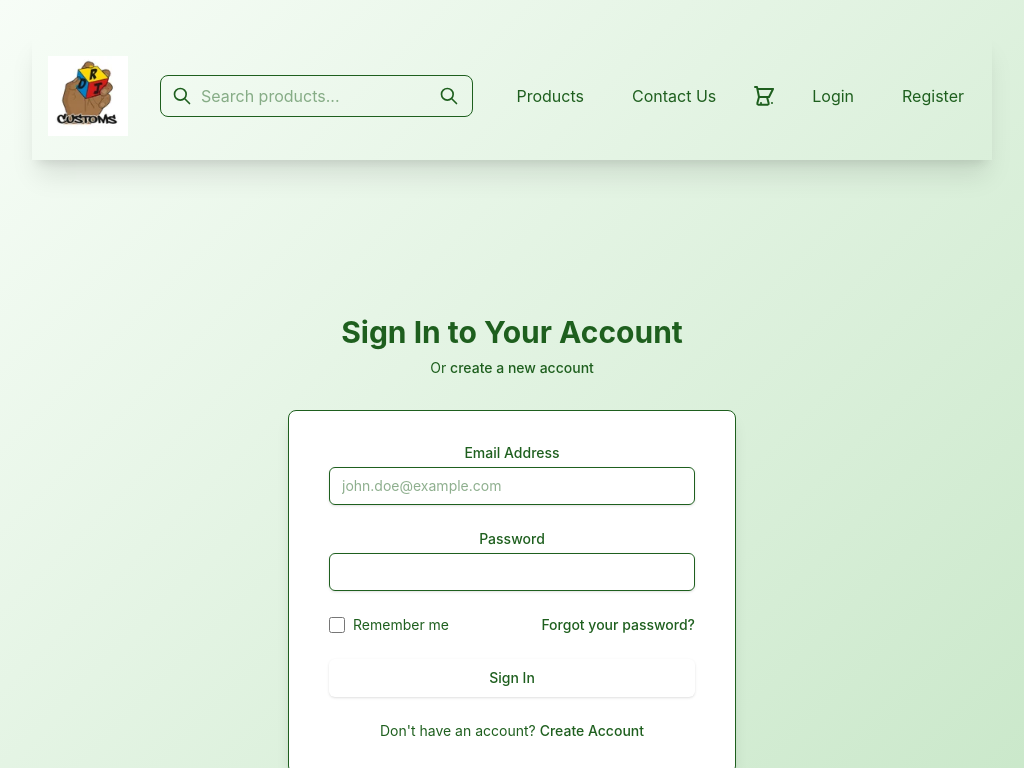
Test case: Login Flow Integration Tests › should clear field errors when user starts typing
Enter invalid email to trigger error
Type "invalid" into the field labelled "Email Address".
click(512, 486); type("invalid")  # box [329,467,695,505]
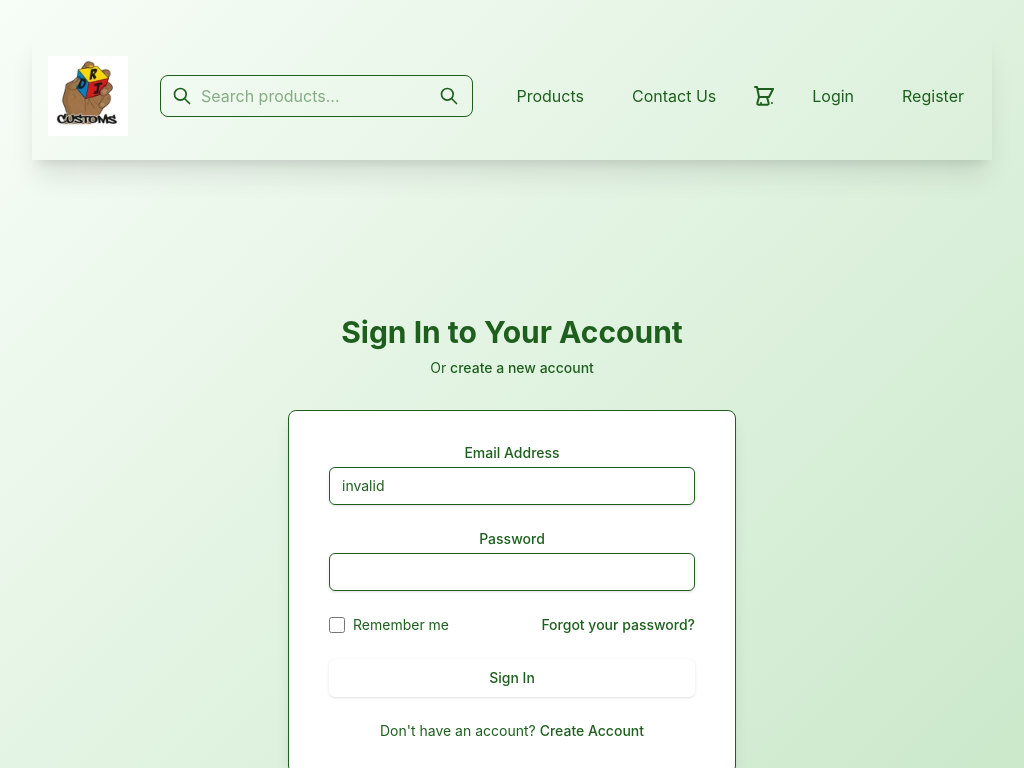
Press Tab
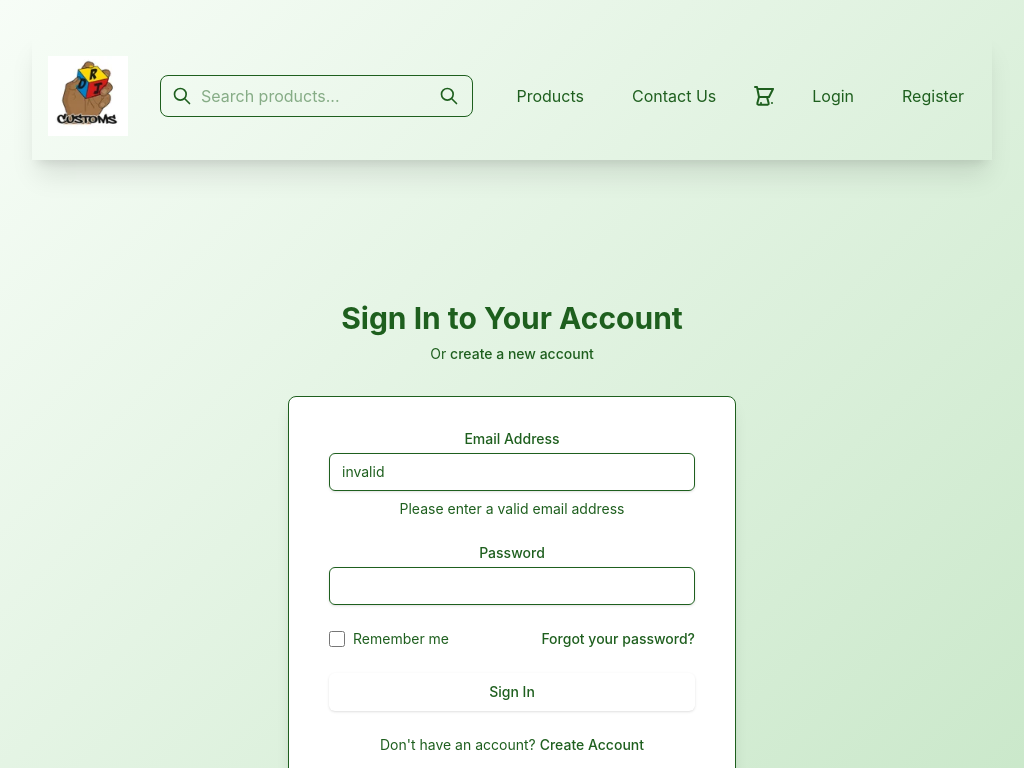
Expected: the text "Please enter a valid email address" is shown, [400,500,624,517]
Start typing again
Type "@example.com" into the field labelled "Email Address".
click(512, 472); type("@example.com")  # box [329,453,695,491]
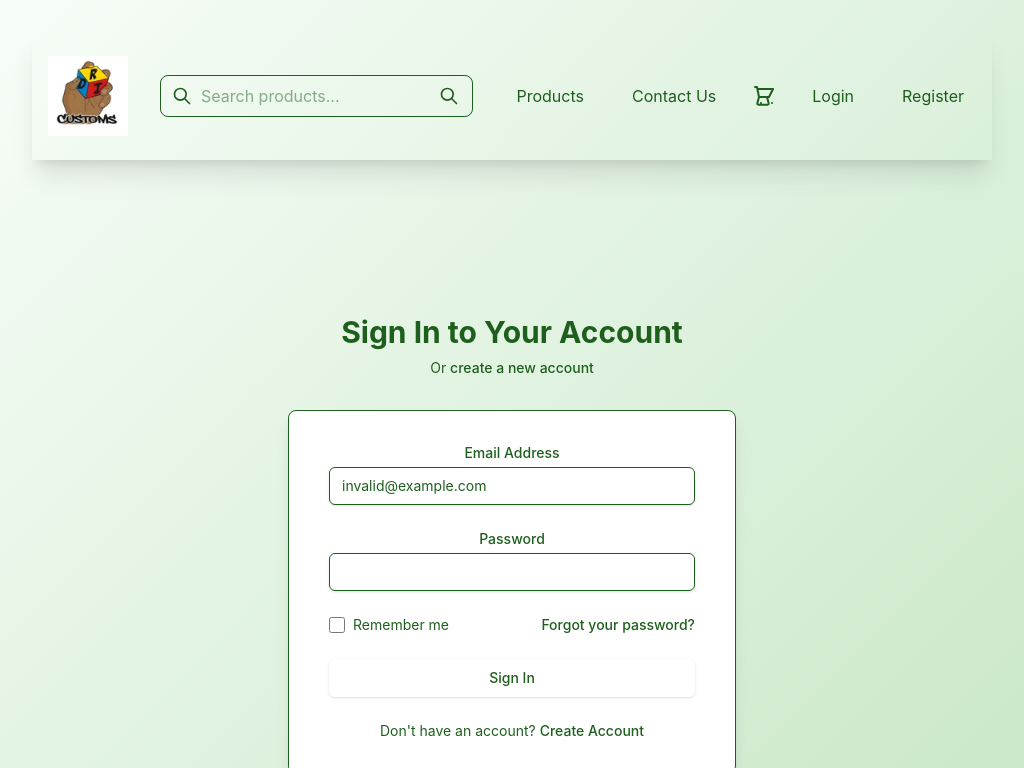
Expected: the text "Please enter a valid email address" is gone
